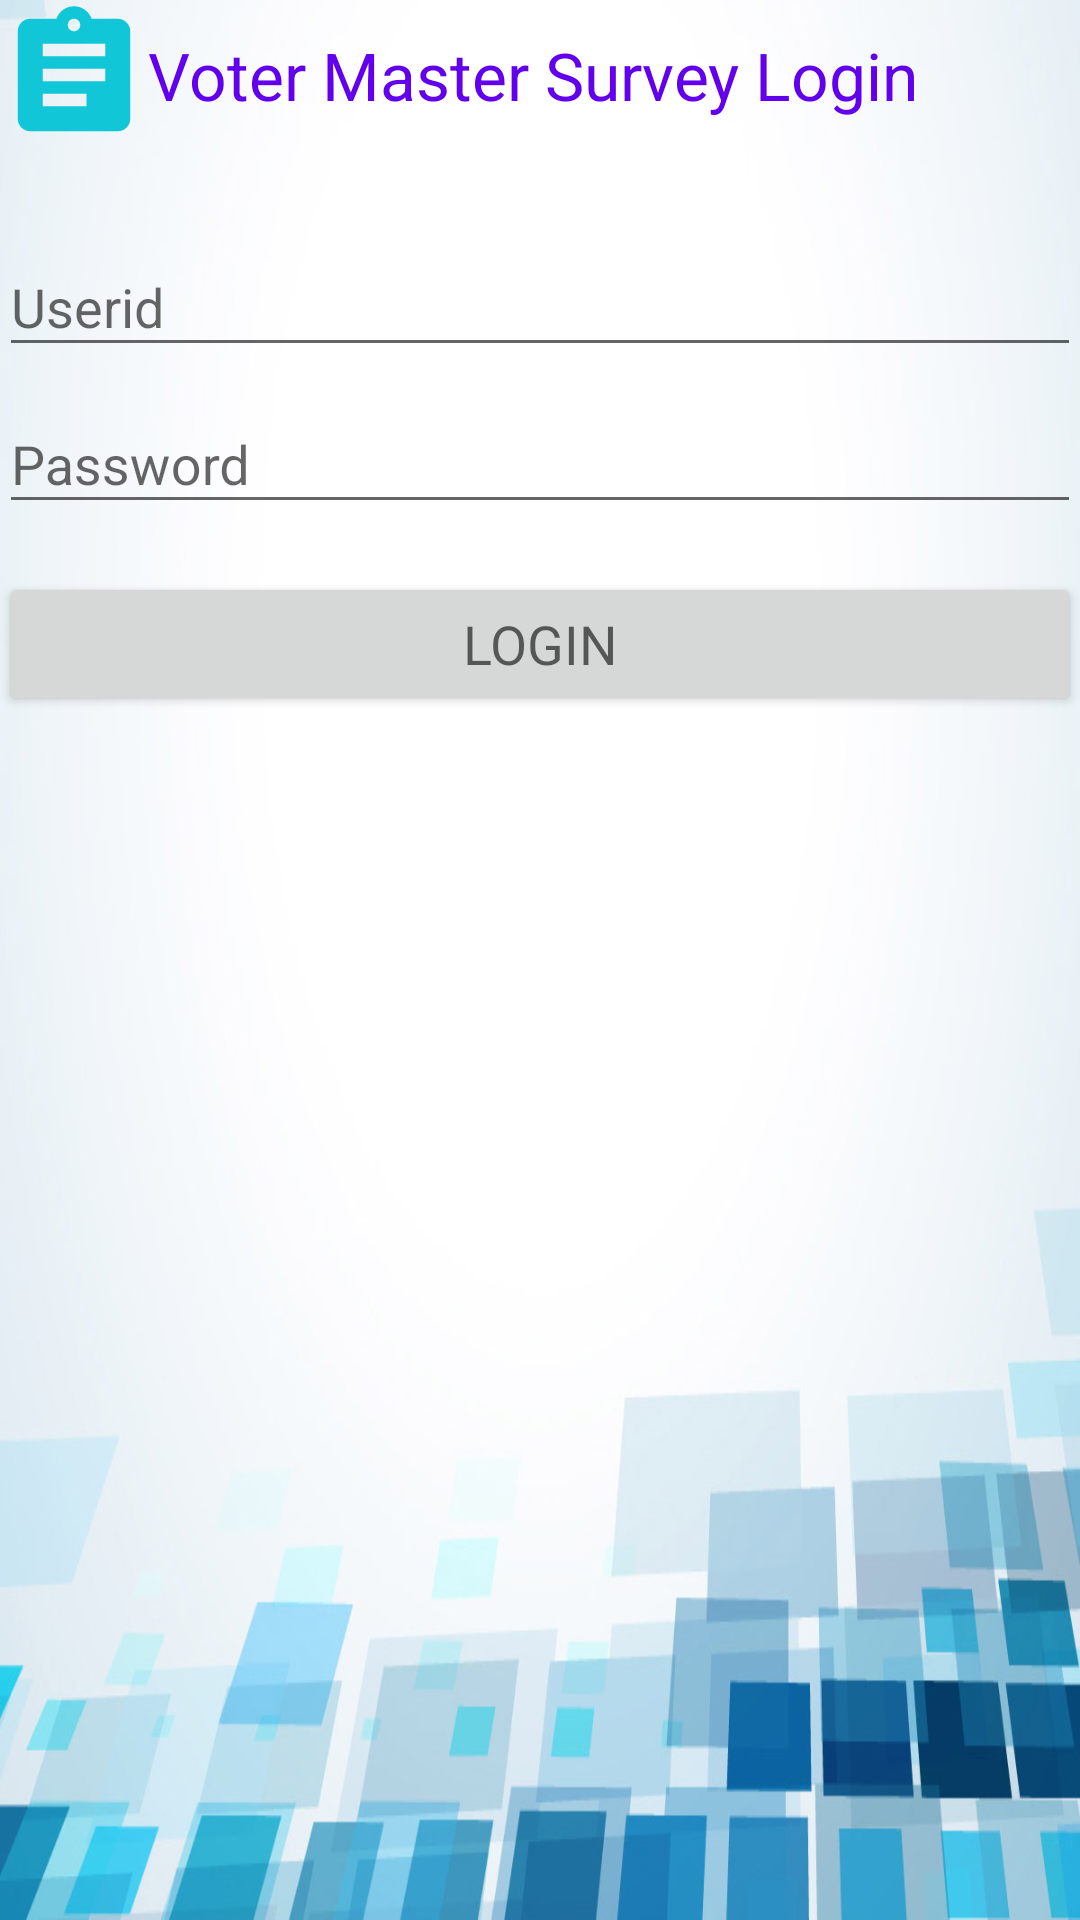

Named icons in this screenshot (1080 × 1920) and their centers, (x=x, y=y):
assignment: (x=65, y=66)
